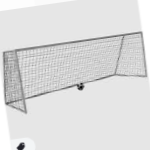goals: (2, 30, 150, 114)
